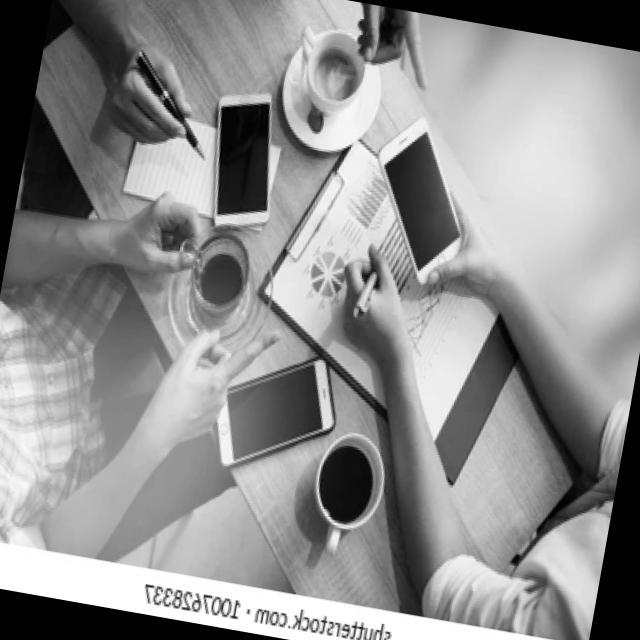phone: (358, 109, 483, 290), (208, 339, 348, 483), (197, 82, 291, 236)
